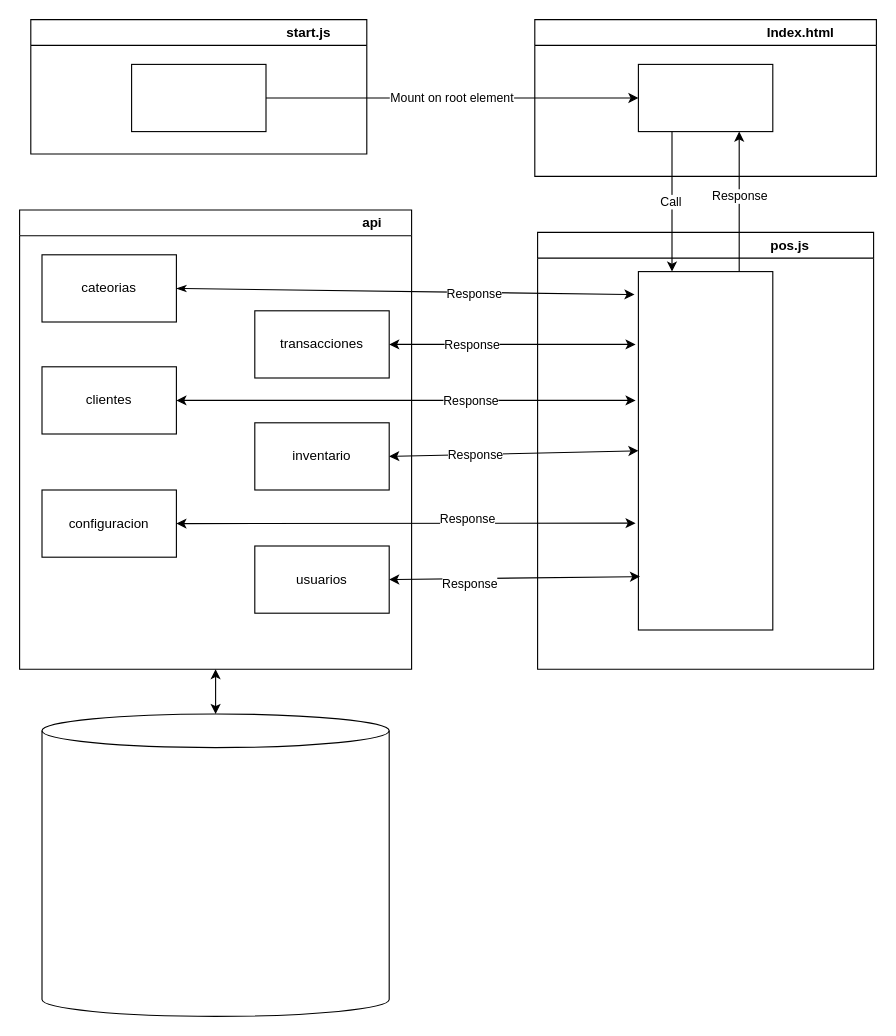
Some shapes in this 896 by 1036 pixel diagram are drawn without their labels. Here are the shapes that lost their labels. From the top down, the centre of each, then its label:
the point at 198,97: Call Index.html
the point at 705,97: Controlador Frontend
the point at 705,450: Controlador componentes dinamicos
the point at 215,864: Local Database
